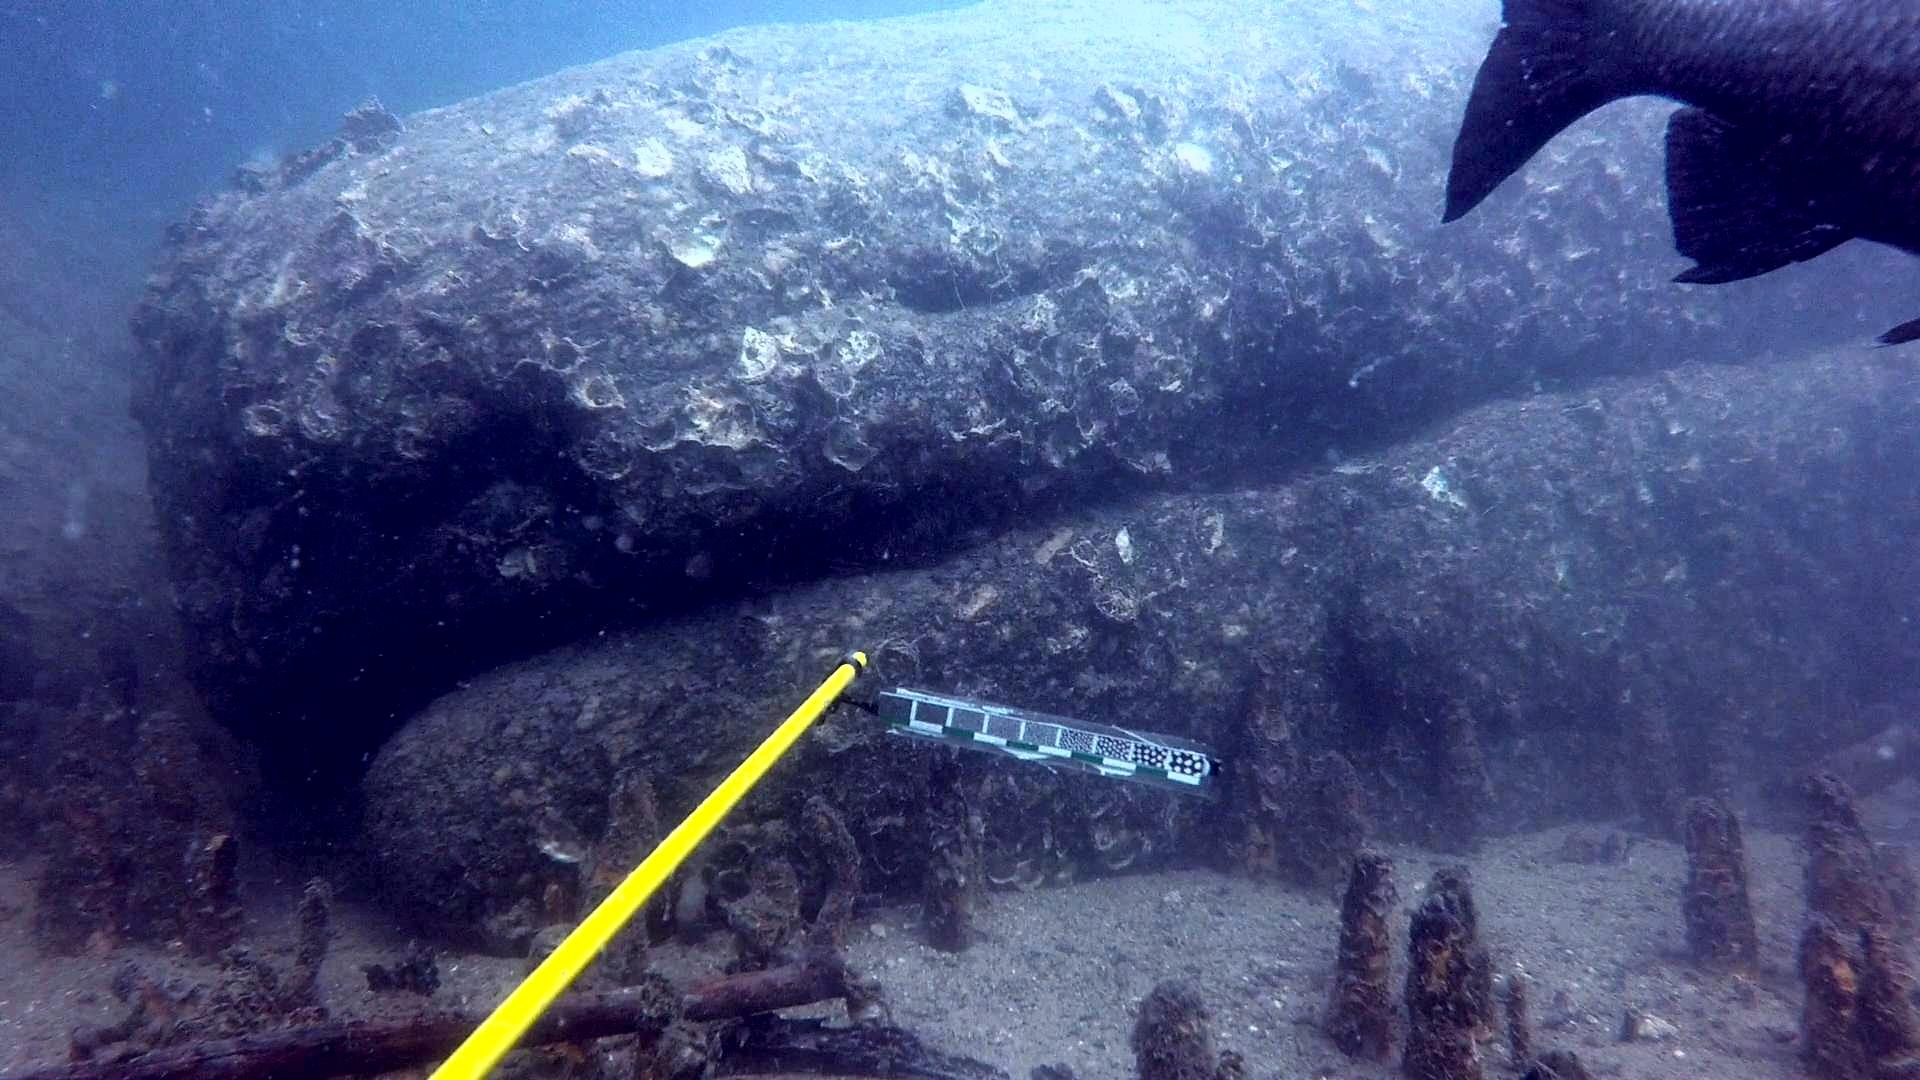acanthopagrus palmaris: (1428, 0, 1920, 348)
